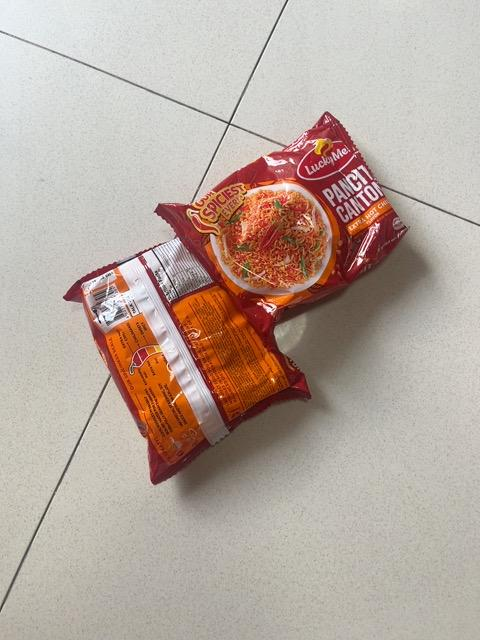Noodles: (62, 226, 313, 487), (152, 108, 411, 334)
